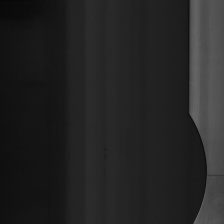crescent_gap: (185, 108, 209, 224)
